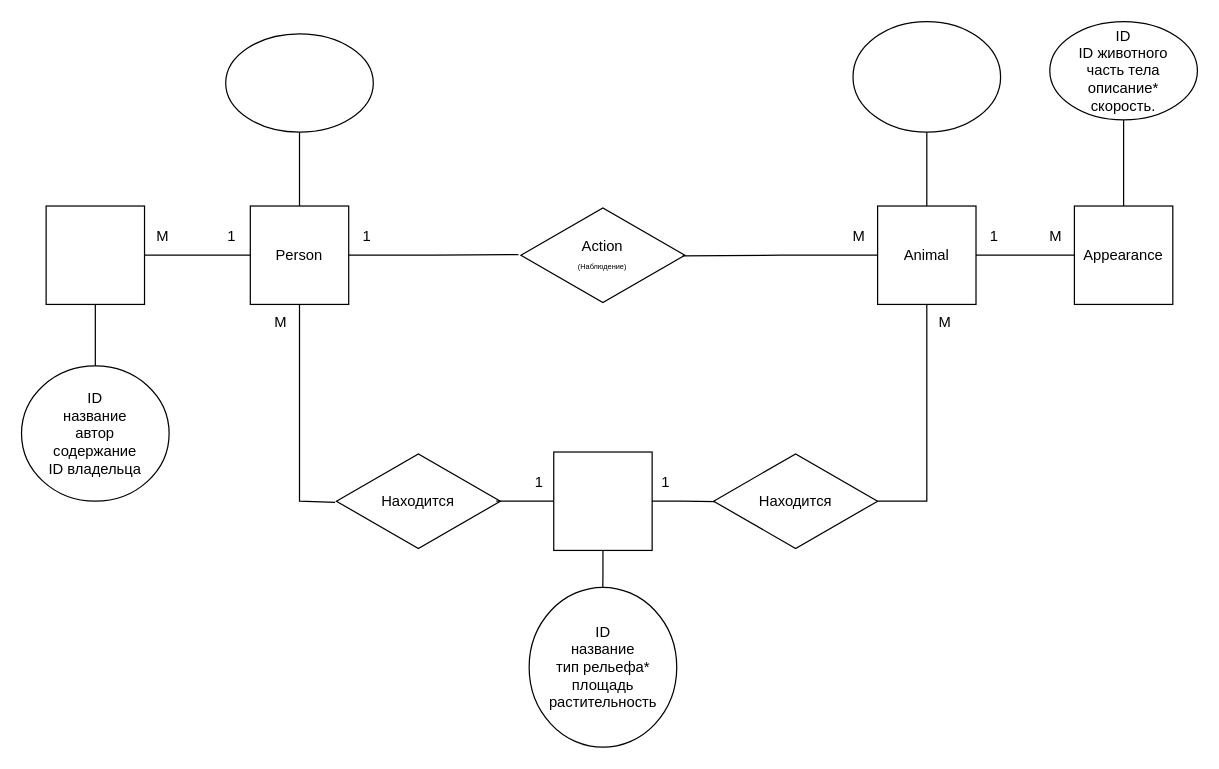
This 1219x769 diagram has some shape labels left out. The centre of each missing label's shape, as x and y in pixels:
ID вид (завропод) состояние ID локации: the point at 926,76
ID имя пол ID локации: the point at 298,82
Inventory_Item: the point at 95,254
Location: the point at 602,500
